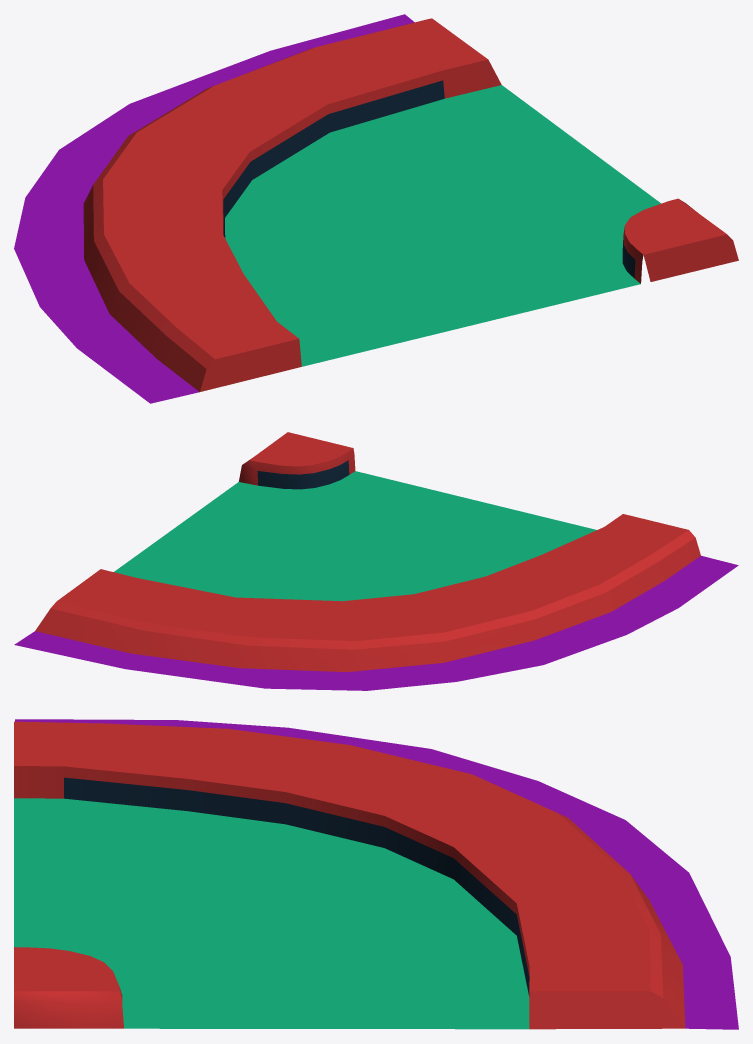
The model's file is Module_Ss_floor_surf_1.FBX.
3 renders of one model, top to bottom at view 1: azimuth 30°, elevation 25°; view 2: azimuth 150°, elevation 25°; view 3: azimuth 270°, elevation 25°, orthographic. The views are drawn at different scales.
Visible parts, largest first — view 1: Module_Ss_floor_surf_1; view 2: Module_Ss_floor_surf_1; view 3: Module_Ss_floor_surf_1.
Boxes of the visible parts, x1,y1,x2,y2 form: Module_Ss_floor_surf_1: [14, 14, 738, 403]; Module_Ss_floor_surf_1: [14, 432, 738, 690]; Module_Ss_floor_surf_1: [14, 719, 738, 1029].
Size of the model in its own units: 43.09 by 2.03 by 42.51.
